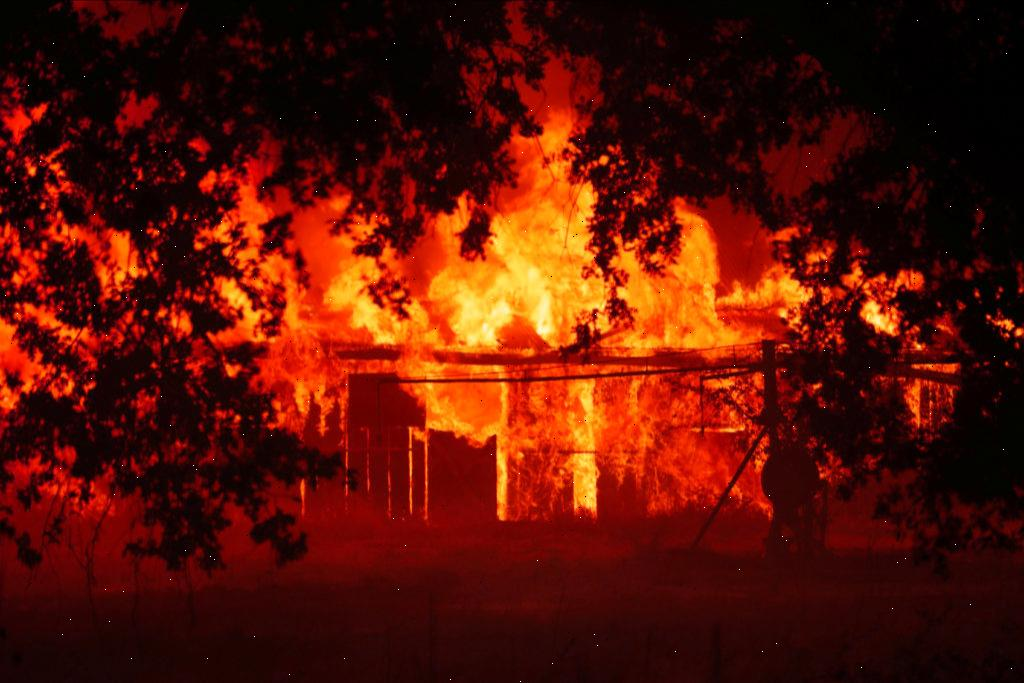fire: (256, 170, 840, 524)
